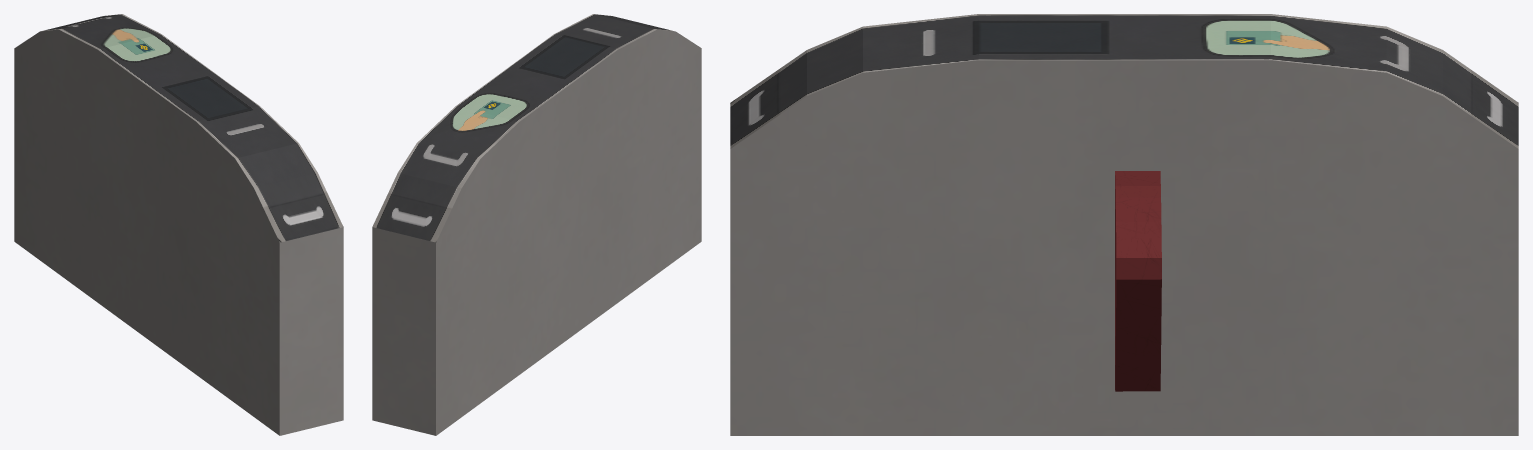
File: mrt gantry right.fbx
3 renders of one model, left to right at view 1: azimuth 30°, elevation 25°; view 2: azimuth 150°, elevation 25°; view 3: azimuth 270°, elevation 25°, orthographic. The views are drawn at different scales.
Parts seen in each view (by area): view 1: polySurface429; view 2: polySurface429; view 3: polySurface429, polySurface430.
Boxes of the visible parts, box(x1,y1,x2,y2) form: polySurface429: box(14, 14, 343, 435); polySurface429: box(372, 14, 701, 435); polySurface429: box(730, 14, 1518, 435); polySurface430: box(1115, 171, 1161, 391).
Size of the model in its own units: 79.76 by 137 by 261.
Materials: 1 (1 with a texture image).
